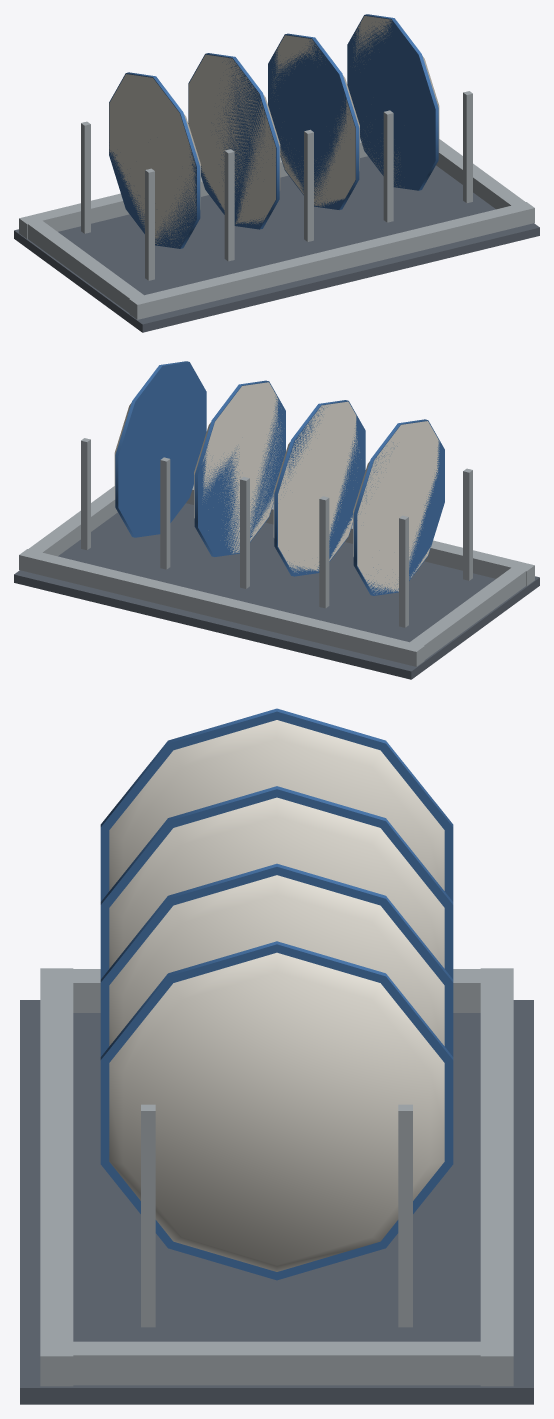
Rendered from dish_rack.glb.
3 renders of one model, top to bottom at view 1: azimuth 30°, elevation 25°; view 2: azimuth 150°, elevation 25°; view 3: azimuth 270°, elevation 25°, orthographic. The views are drawn at different scales.
Visible parts, largest first — view 1: dish_rack; view 2: dish_rack; view 3: dish_rack.
Part boxes in pixels (x1,y1,x2,y2): dish_rack: (14,14,539,332); dish_rack: (14,361,539,679); dish_rack: (20,708,533,1404).
Size of the model in its own units: 0.5 by 0.229 by 0.28.
